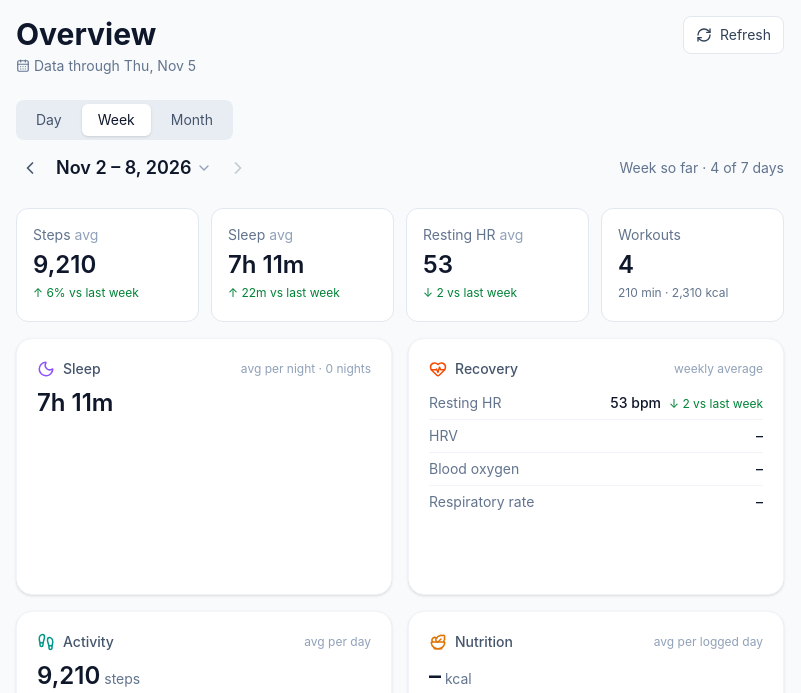
Overview › jumps to a picked date's month
Click the button "Month" at (192, 120), box [155,104,229,136]
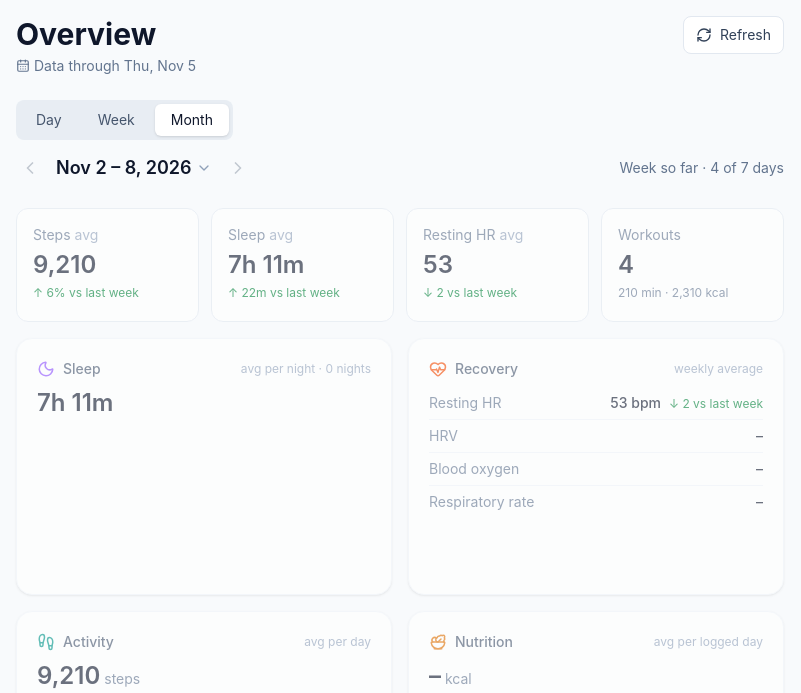
Type "2022-05-15" into the date field named "Choose a date" at (134, 168), box [16,152,252,184]
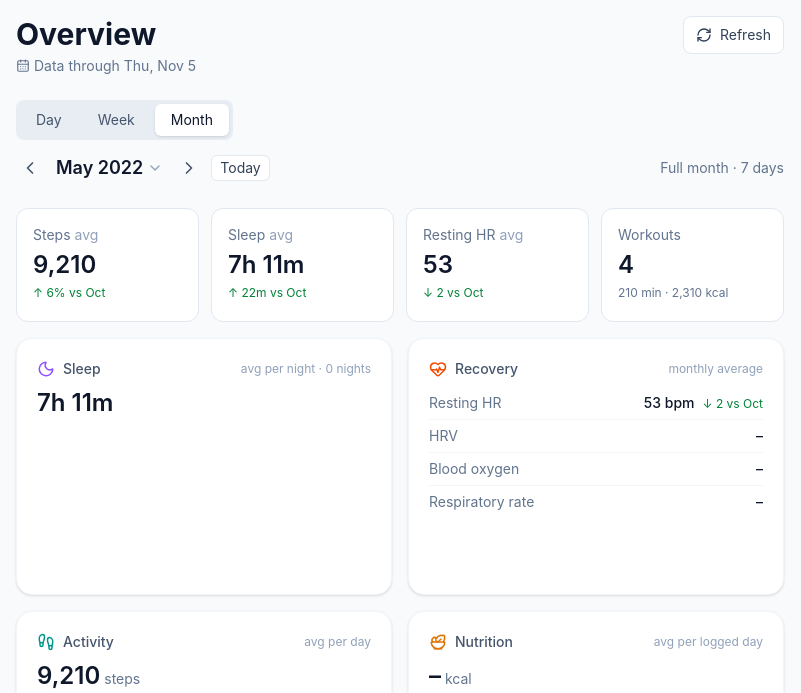
Result: the heading "May 2022" is shown at [48,152,171,184]
